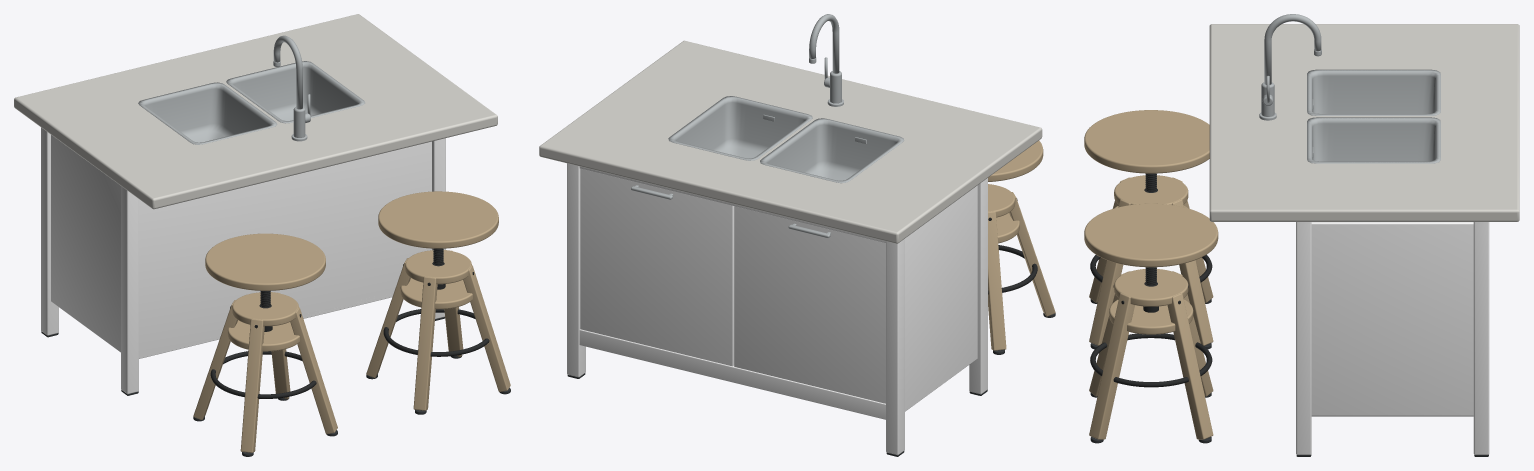
The model's file is island-two-sink-detailed.glb.
3 views of the same model, side by side, from view 1: azimuth 30°, elevation 25°; view 2: azimuth 150°, elevation 25°; view 3: azimuth 270°, elevation 25° (orthographic). The views are drawn at different scales.
Parts seen in each view (by area): view 1: Thick eased island worktop, Recessed island rear panel, Recessed island end panel, Rounded timber stool seat.001, Rounded timber stool seat, Rounded stainless bowl and rim, Rounded stainless bowl and rim.001, Square island corner post, Square island corner post.001, Splayed timber stool leg.002, Splayed timber stool leg.006, Splayed timber stool leg.007 (+13 smaller); view 2: Thick eased island worktop, Recessed sink island door.001, Recessed sink island door, Recessed island end panel, Rounded stainless bowl and rim, Rounded stainless bowl and rim.001, Island front cross rail, Square island corner post.001, Square island corner post.003, Square island corner post, Splayed timber stool leg.001, Splayed timber stool leg.002 (+5 smaller); view 3: Thick eased island worktop, Recessed island end panel.001, Rounded timber stool seat.001, Rounded timber stool seat, Rounded stainless bowl and rim.001, Rounded stainless bowl and rim, Square island corner post.003, Square island corner post.002, Splayed timber stool leg.004, Splayed timber stool leg.007, Timber spindle support.003, Timber spindle support.001 (+7 smaller).
Part boxes in pixels (x1=…): Thick eased island worktop: x1=14, y1=14, x2=497, y2=209; Recessed island rear panel: x1=139, y1=141, x2=431, y2=357; Recessed island end panel: x1=51, y1=135, x2=120, y2=352; Rounded timber stool seat.001: x1=378, y1=191, x2=498, y2=248; Rounded timber stool seat: x1=205, y1=233, x2=325, y2=290; Rounded stainless bowl and rim: x1=138, y1=82, x2=277, y2=144; Rounded stainless bowl and rim.001: x1=226, y1=61, x2=365, y2=123; Square island corner post: x1=121, y1=186, x2=138, y2=394; Square island corner post.001: x1=41, y1=127, x2=58, y2=335; Splayed timber stool leg.002: x1=240, y1=318, x2=264, y2=452; Splayed timber stool leg.006: x1=413, y1=276, x2=437, y2=410; Splayed timber stool leg.007: x1=463, y1=265, x2=510, y2=391; Thick eased island worktop: x1=539, y1=40, x2=1042, y2=243; Recessed sink island door.001: x1=580, y1=168, x2=734, y2=366; Recessed sink island door: x1=734, y1=206, x2=885, y2=403; Recessed island end panel: x1=905, y1=185, x2=977, y2=411; Rounded stainless bowl and rim: x1=760, y1=118, x2=904, y2=183; Rounded stainless bowl and rim.001: x1=668, y1=96, x2=812, y2=160; Island front cross rail: x1=579, y1=329, x2=885, y2=419; Square island corner post.001: x1=886, y1=239, x2=904, y2=455; Square island corner post.003: x1=567, y1=163, x2=585, y2=377; Square island corner post: x1=969, y1=178, x2=987, y2=394; Splayed timber stool leg.001: x1=988, y1=211, x2=1006, y2=350; Splayed timber stool leg.002: x1=1009, y1=192, x2=1055, y2=316; Thick eased island worktop: x1=1209, y1=24, x2=1519, y2=221; Recessed island end panel.001: x1=1311, y1=222, x2=1473, y2=415; Rounded timber stool seat.001: x1=1084, y1=203, x2=1218, y2=267; Rounded timber stool seat: x1=1084, y1=110, x2=1209, y2=173; Rounded stainless bowl and rim.001: x1=1307, y1=117, x2=1440, y2=163; Rounded stainless bowl and rim: x1=1307, y1=69, x2=1440, y2=115; Square island corner post.003: x1=1473, y1=222, x2=1489, y2=454; Square island corner post.002: x1=1296, y1=222, x2=1311, y2=454; Splayed timber stool leg.004: x1=1167, y1=293, x2=1213, y2=439; Splayed timber stool leg.007: x1=1089, y1=293, x2=1134, y2=439; Timber spindle support.003: x1=1114, y1=269, x2=1188, y2=306; Timber spindle support.001: x1=1114, y1=175, x2=1188, y2=204.
Size of the model in its own units: 1.42 by 1.26 by 1.4.
